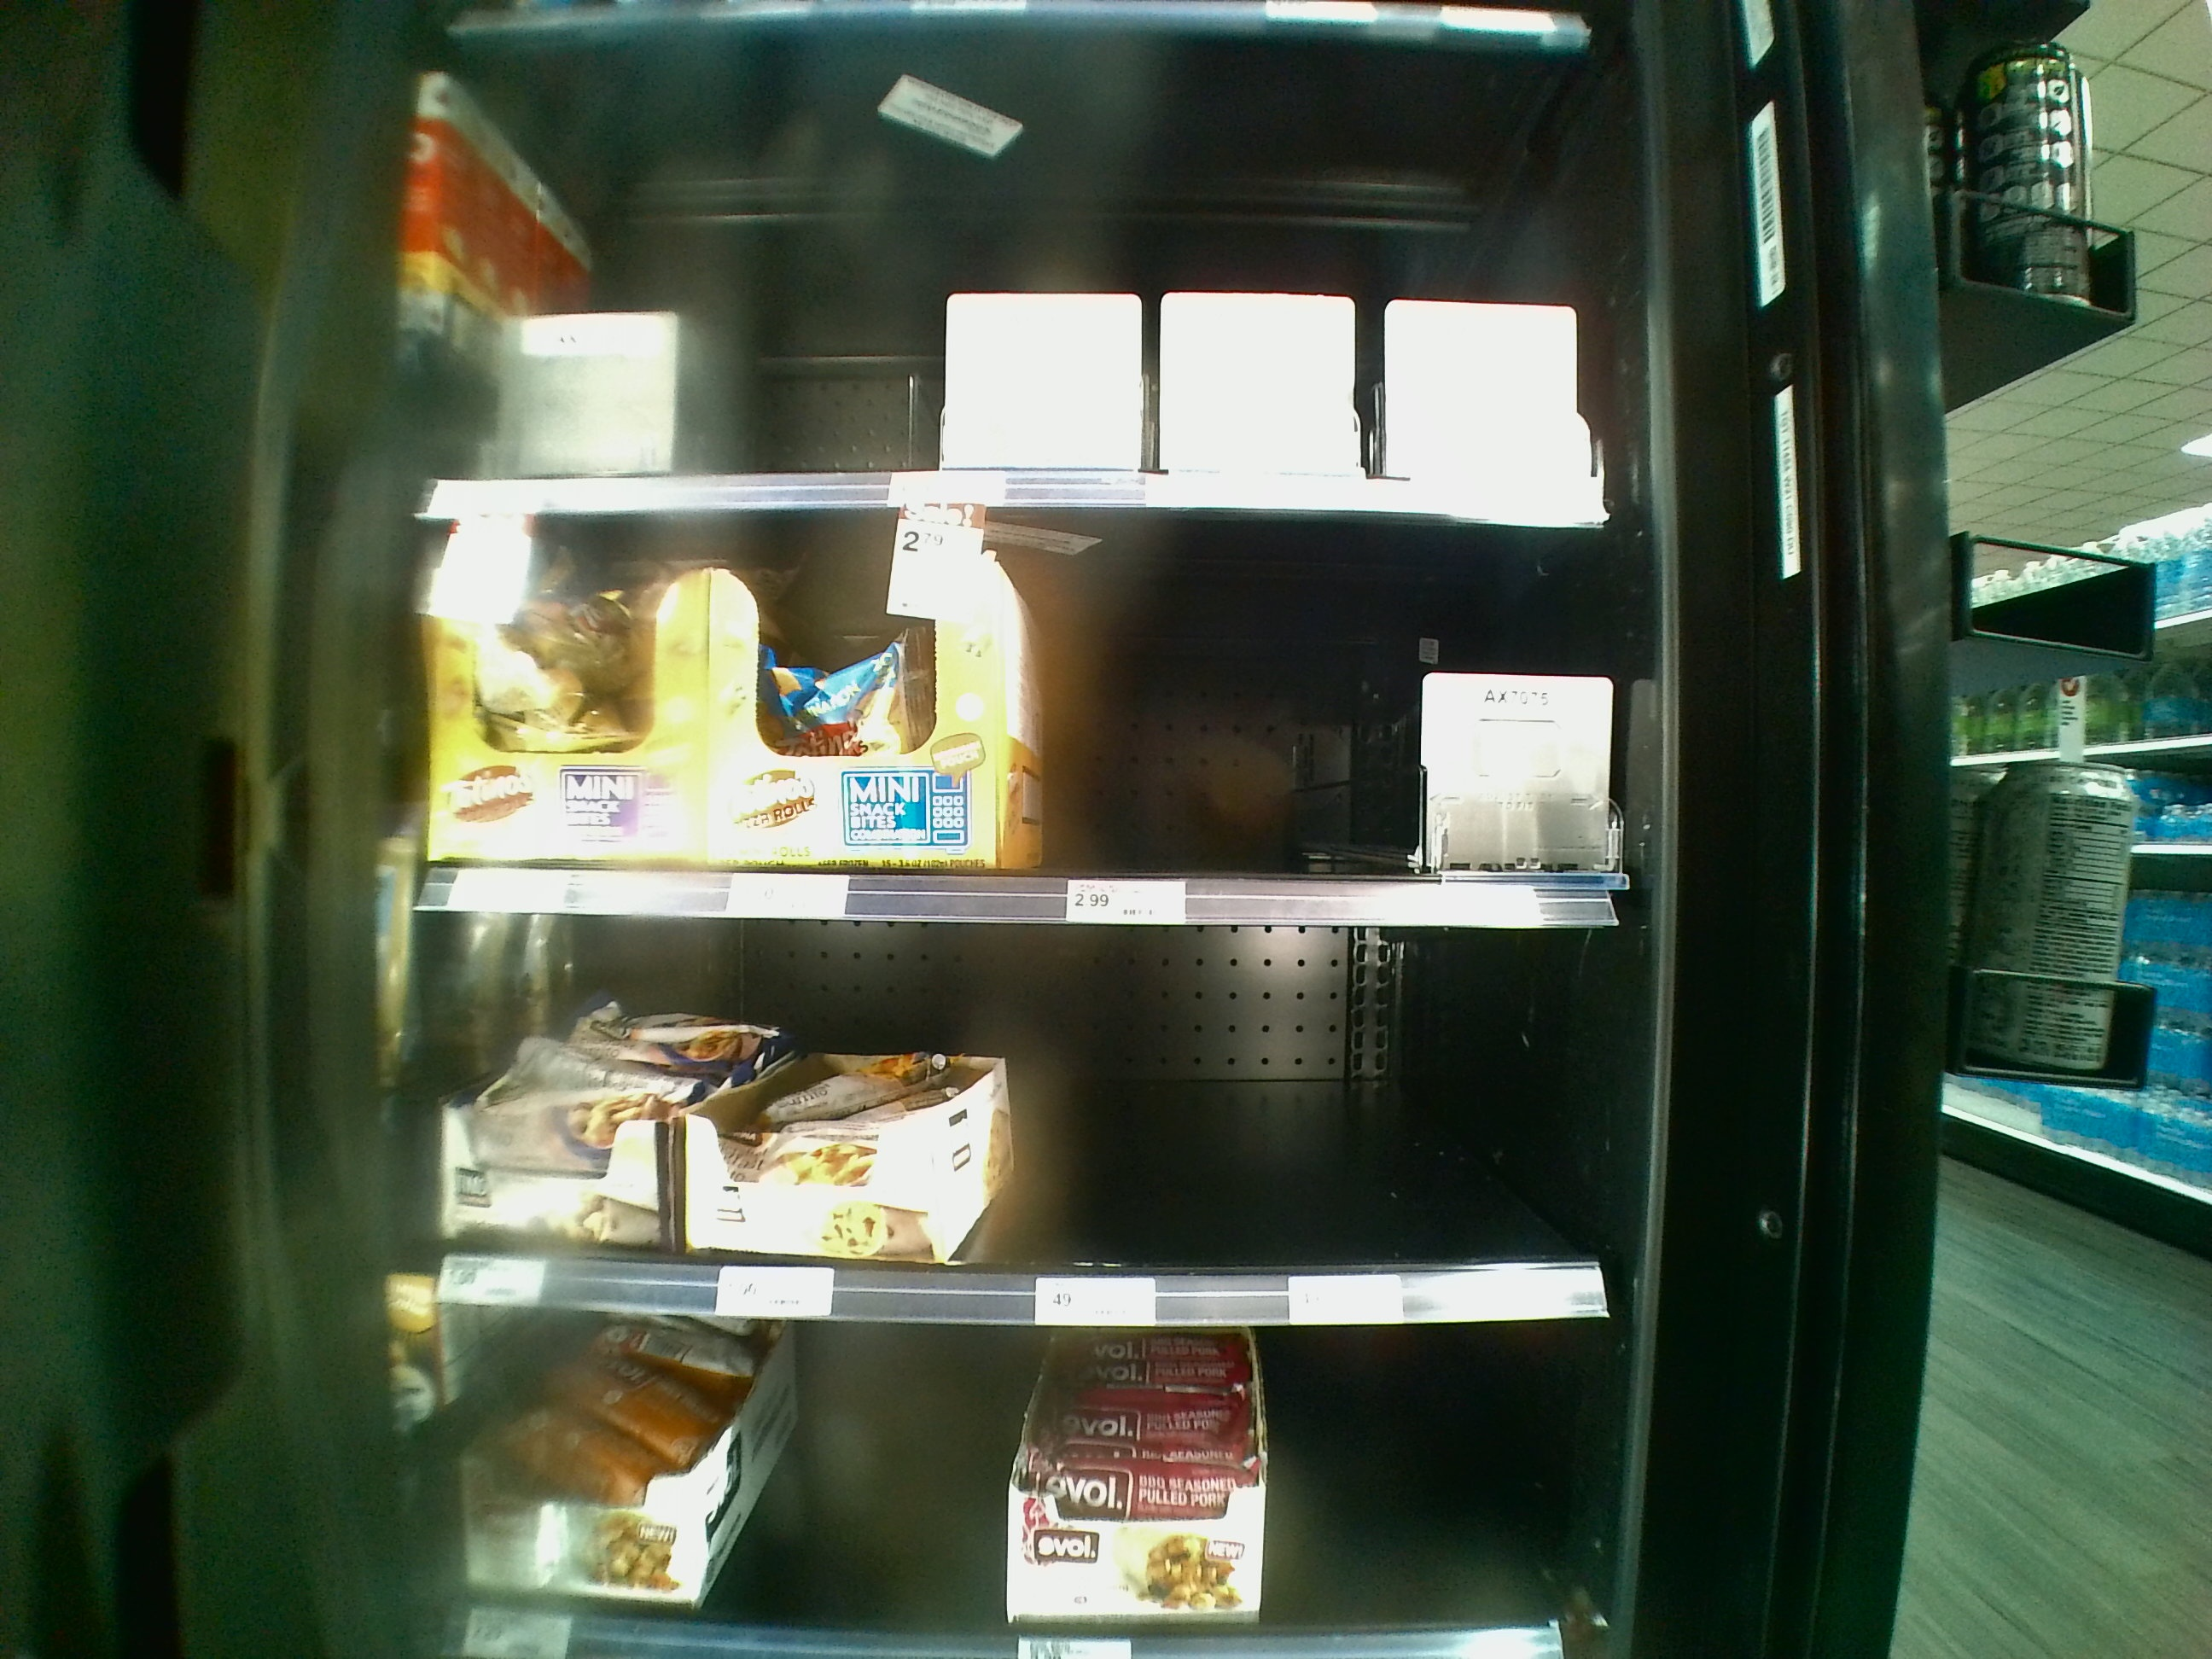shelf: (444, 47, 1618, 521), (432, 519, 1634, 932), (425, 917, 1618, 1326), (456, 1317, 1629, 1659)
